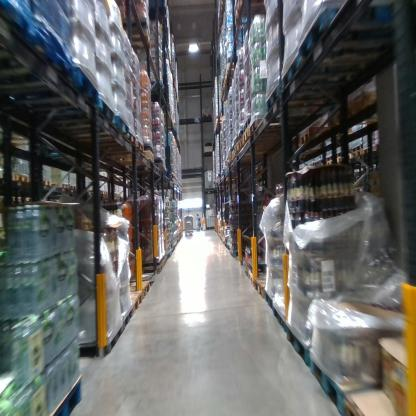pallet: (291, 6, 405, 63), (279, 46, 397, 97), (300, 354, 393, 410), (3, 65, 105, 112), (16, 101, 122, 145), (29, 32, 80, 84), (265, 84, 353, 111), (76, 319, 129, 361), (270, 295, 322, 334), (110, 18, 154, 53), (51, 370, 84, 414), (346, 393, 412, 415), (287, 323, 316, 373), (226, 2, 274, 28), (105, 151, 157, 174), (90, 131, 137, 155), (248, 118, 299, 140), (82, 139, 148, 156), (297, 122, 345, 144), (243, 128, 298, 146), (248, 266, 273, 301), (233, 140, 278, 157), (123, 272, 156, 289), (121, 277, 150, 295), (239, 137, 277, 150), (120, 303, 137, 330), (132, 287, 146, 317), (116, 112, 131, 139), (232, 148, 263, 160), (224, 62, 245, 78), (137, 263, 163, 275), (227, 154, 261, 162), (224, 73, 240, 90), (16, 171, 32, 186), (46, 182, 70, 192), (364, 142, 381, 156), (266, 287, 275, 312), (1, 171, 17, 185), (211, 116, 229, 128), (39, 177, 50, 193), (216, 176, 235, 185), (343, 148, 353, 165), (351, 148, 363, 161), (83, 187, 105, 194), (325, 155, 335, 170), (335, 152, 345, 166), (69, 184, 78, 190), (259, 163, 264, 173), (254, 166, 259, 175), (162, 259, 165, 268), (103, 191, 110, 194)
